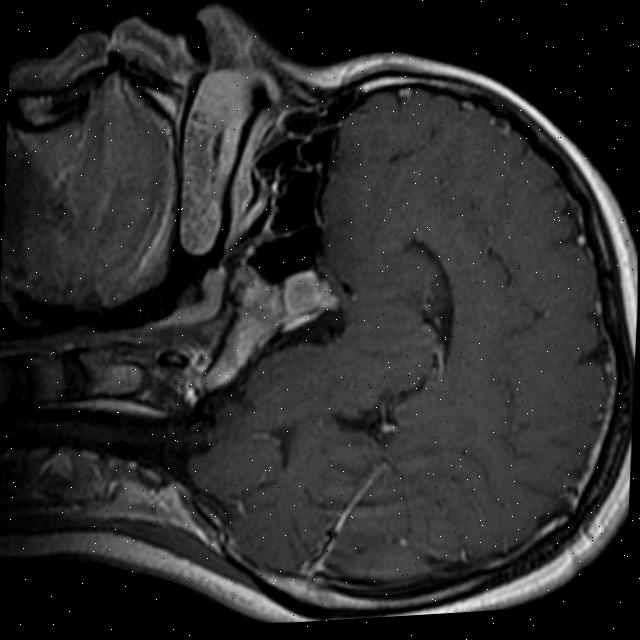Pituitary: (282, 268, 326, 319)
